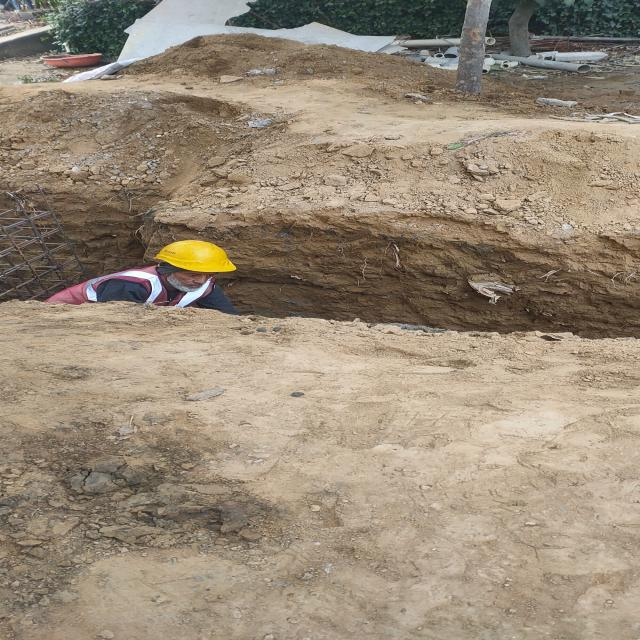safe: (43, 233, 251, 303)
